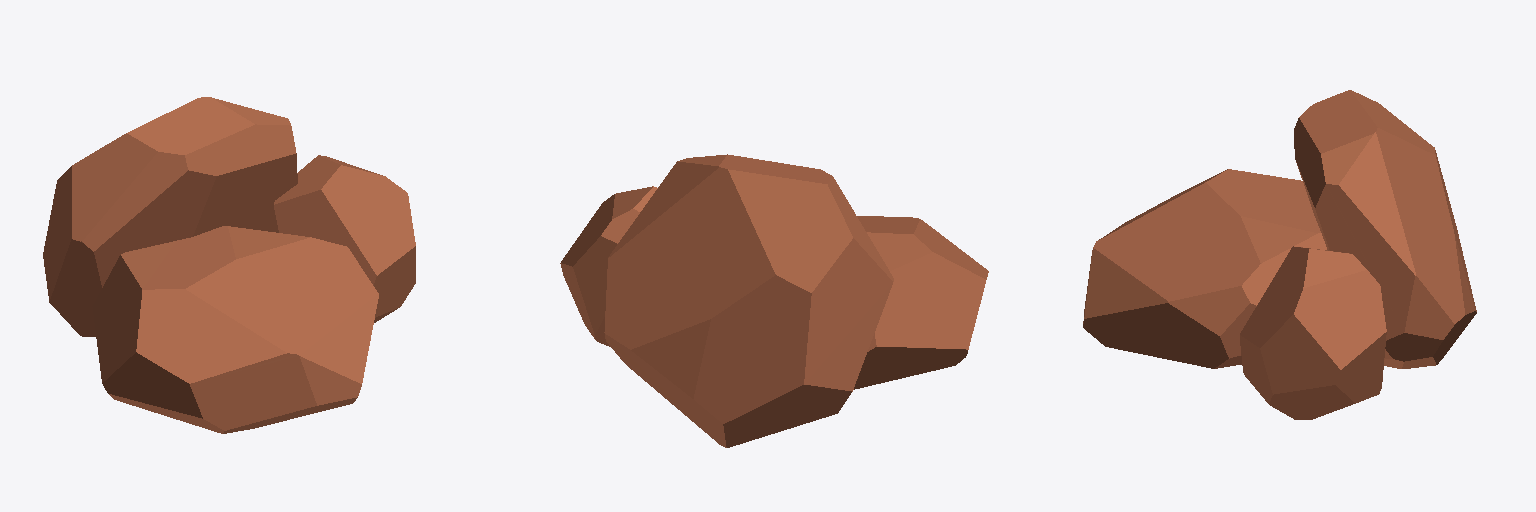
3 views of the same model, side by side, from view 1: azimuth 30°, elevation 25°; view 2: azimuth 150°, elevation 25°; view 3: azimuth 270°, elevation 25° (orthographic).
Visible parts, largest first — view 1: Rock_Type2_02_mesh.001; view 2: Rock_Type2_02_mesh.001; view 3: Rock_Type2_02_mesh.001.
Boxes of the visible parts, x1=… form: Rock_Type2_02_mesh.001: x1=43, y1=97, x2=415, y2=433; Rock_Type2_02_mesh.001: x1=560, y1=154, x2=988, y2=447; Rock_Type2_02_mesh.001: x1=1083, y1=90, x2=1476, y2=419.
Size of the model in its own units: 0.046 by 0.0309 by 0.0443.
1 materials, 1 textured.